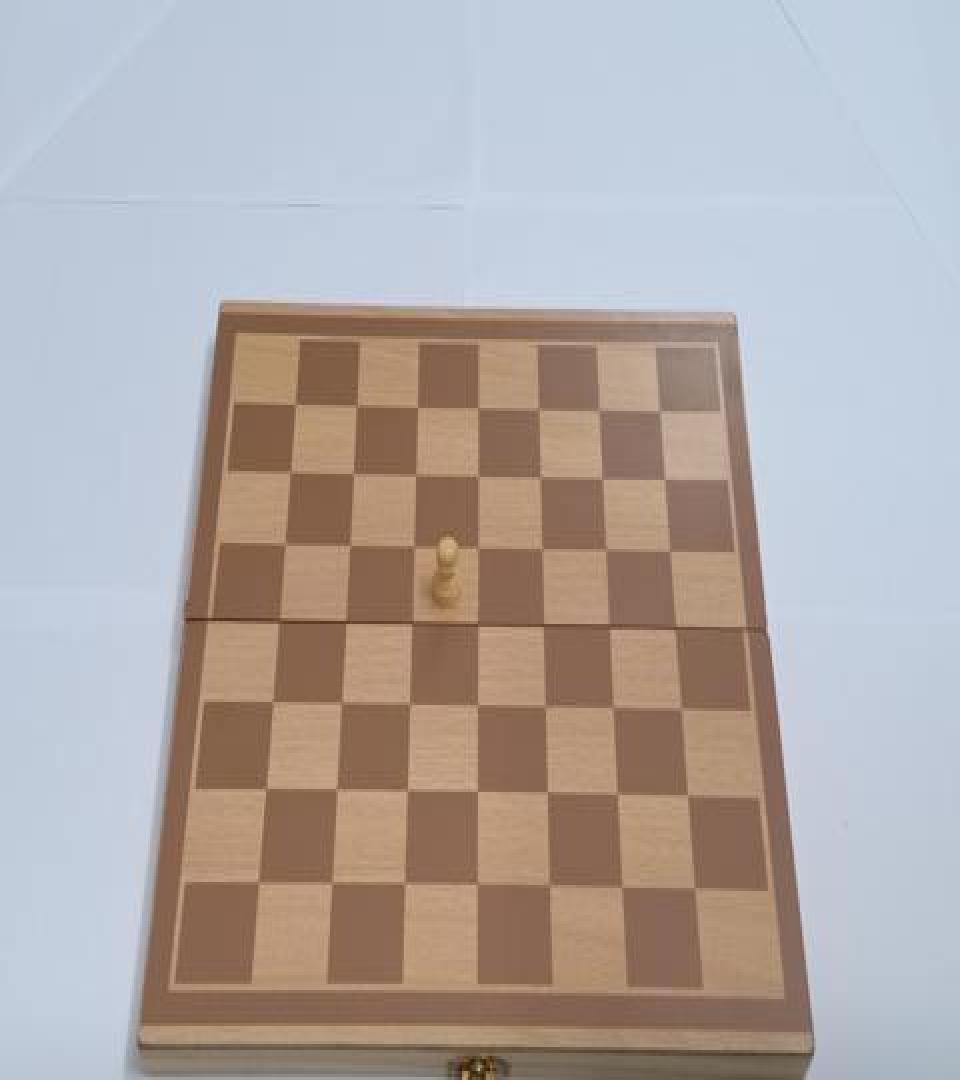xcorner: (264, 694, 282, 722), (332, 694, 350, 722), (400, 694, 418, 722), (469, 466, 487, 494), (468, 694, 486, 722), (531, 466, 549, 494), (593, 466, 611, 494), (655, 466, 673, 494), (288, 396, 306, 423), (282, 465, 300, 492), (276, 537, 294, 564), (257, 780, 275, 807), (250, 873, 268, 900), (348, 397, 366, 424), (345, 465, 363, 492), (341, 537, 359, 564), (323, 873, 341, 900), (409, 397, 427, 424), (407, 465, 425, 492), (405, 537, 423, 564), (395, 873, 413, 900), (469, 397, 487, 424), (469, 538, 487, 565), (468, 873, 486, 900), (530, 399, 548, 426), (533, 538, 551, 565), (535, 615, 553, 642), (536, 696, 554, 723), (540, 873, 558, 900), (590, 399, 608, 426), (597, 538, 615, 565), (600, 615, 618, 642), (604, 696, 622, 723), (612, 873, 630, 900), (650, 399, 668, 426), (660, 538, 678, 565), (666, 615, 684, 642), (672, 696, 690, 723), (684, 873, 702, 900), (270, 614, 288, 640), (337, 614, 355, 640), (328, 782, 346, 808), (403, 614, 421, 640), (398, 782, 416, 808), (469, 614, 487, 640), (468, 782, 486, 808), (538, 782, 556, 808), (608, 782, 626, 808), (678, 782, 696, 808)
